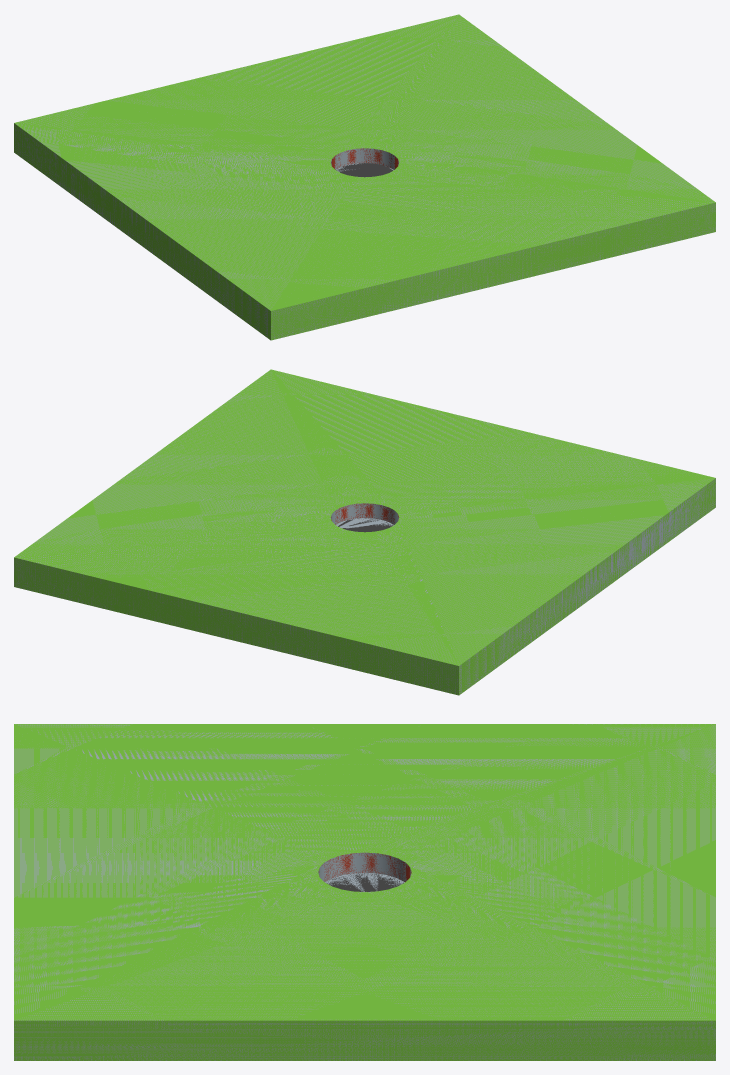
Rendered from Hole_open_01.fbx.
3 views of the same model, one above another, from view 1: azimuth 30°, elevation 25°; view 2: azimuth 150°, elevation 25°; view 3: azimuth 270°, elevation 25° (orthographic). The views are drawn at different scales.
Visible parts, largest first — view 1: Mesh1_Hole_open Model; view 2: Mesh1_Hole_open Model; view 3: Mesh1_Hole_open Model.
Part boxes in pixels (left/top/right/bottom): Mesh1_Hole_open Model: left=14, top=14, right=715, bottom=340; Mesh1_Hole_open Model: left=14, top=369, right=715, bottom=695; Mesh1_Hole_open Model: left=14, top=724, right=715, bottom=1060.
Bounding box in the file's own units: 3 × 0.19 × 3.
